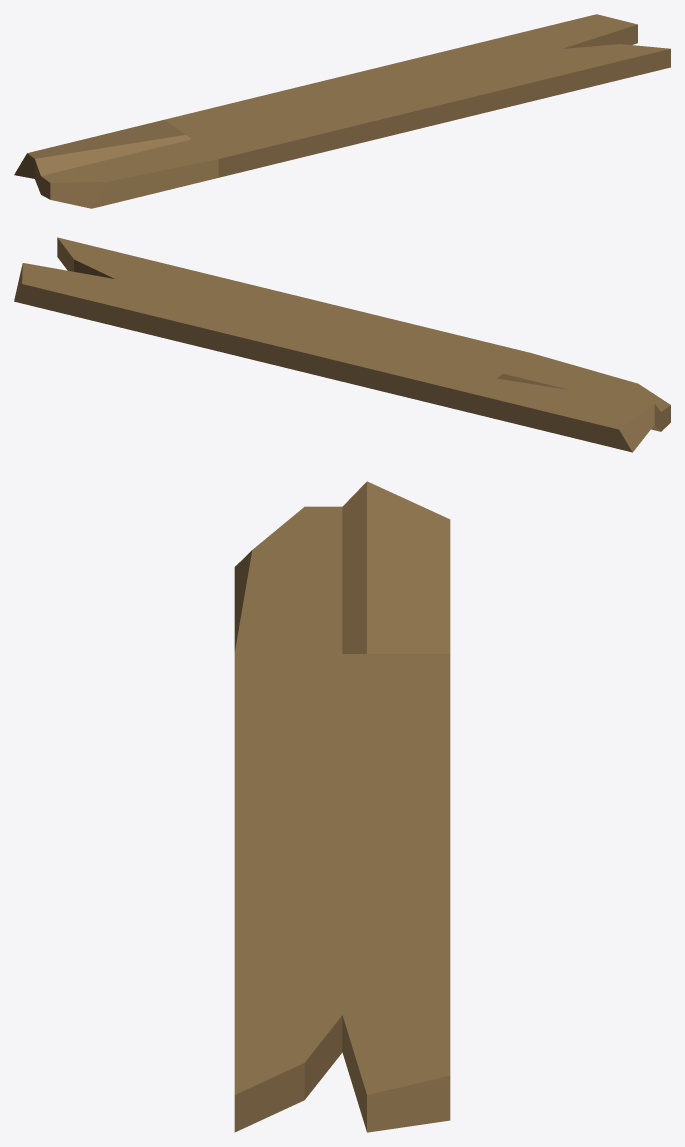
File: wooden_plank.fbx
The picture shows the model from 3 angles, top to bottom: view 1: azimuth 30°, elevation 25°; view 2: azimuth 150°, elevation 25°; view 3: azimuth 270°, elevation 25°; orthographic projection. The views are drawn at different scales.
Visible parts, largest first — view 1: Cube; view 2: Cube; view 3: Cube.
Boxes of the visible parts, x1,y1,x2,y2 form: Cube: (14, 14, 670, 208); Cube: (14, 237, 670, 452); Cube: (234, 481, 450, 1132).
Bounding box in the file's own units: 200 × 9.96 × 31.
